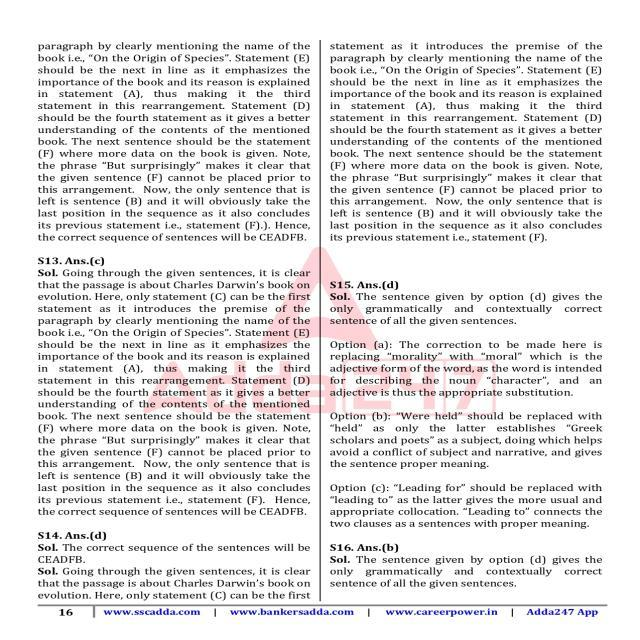Answer_Block: (29, 248, 313, 518), (326, 271, 610, 530), (31, 38, 315, 240), (328, 41, 609, 242), (31, 528, 316, 603), (316, 539, 608, 594)
Question_Paper_Area: (23, 23, 616, 604)
